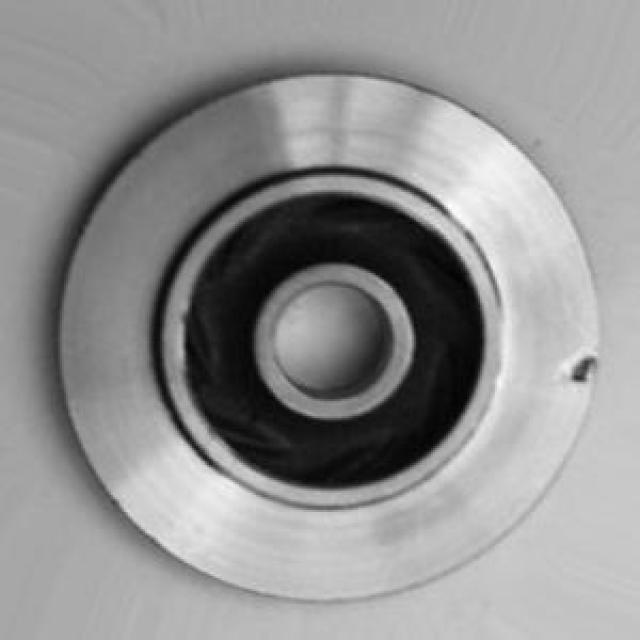Defect: (565, 343, 600, 395)
